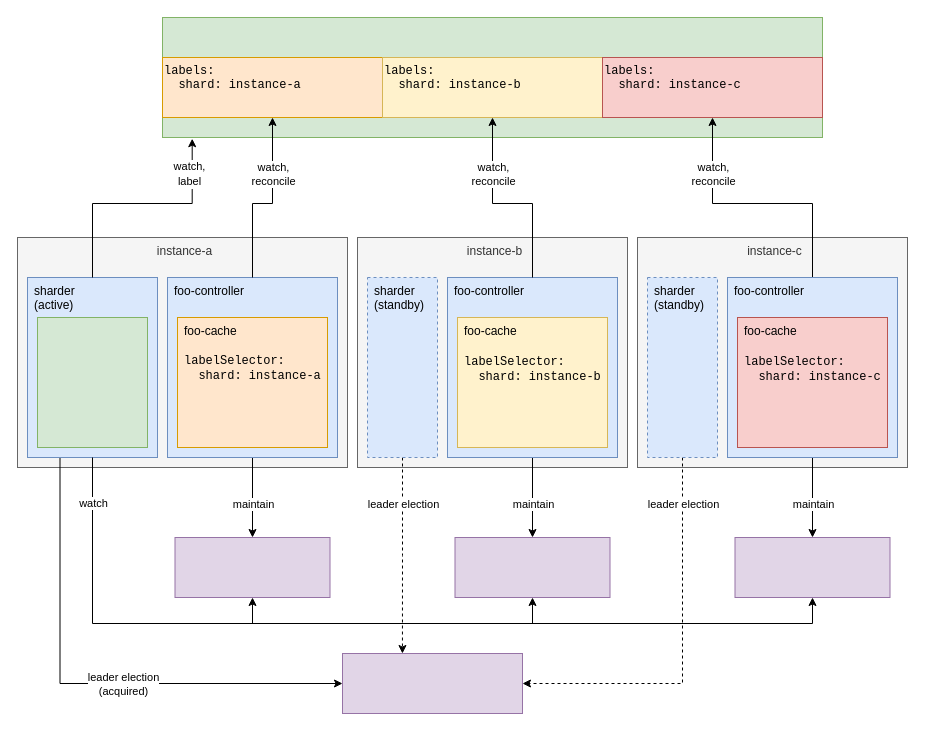
The diagram is 925 pixels wide and 731 high, and some of its shapes have lost their labels. The shapes that lost their labels are listed below. From the top down, each one's box as (x1, y1, x2, y2) in pixels, then its label:
(162, 16, 822, 138): Foo objects
(36, 316, 148, 448): foo-cache metadata-only
(174, 536, 330, 598): Lease name: instance-a holder: instance-a
(454, 536, 610, 598): Lease name: instance-b holder: instance-b
(734, 536, 890, 598): Lease name: instance-c holder: instance-c
(342, 652, 522, 714): Lease name: controller-leader holder: instance-a
